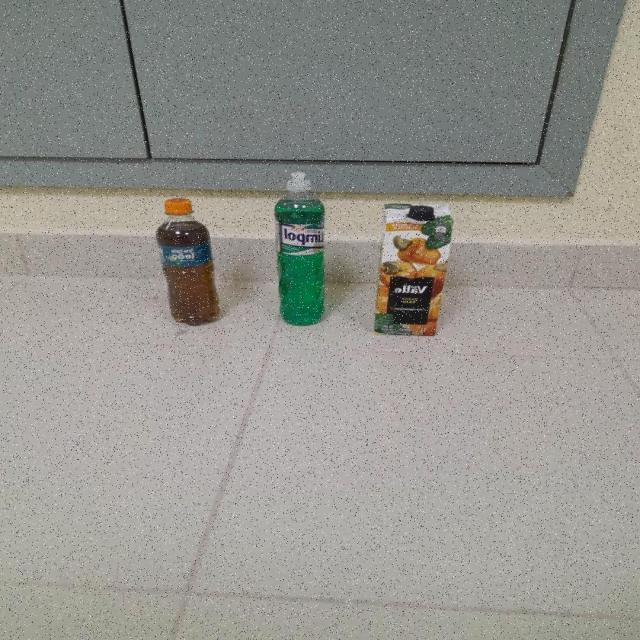Cleaner: (274, 173, 326, 329)
IceTea: (155, 198, 221, 328)
